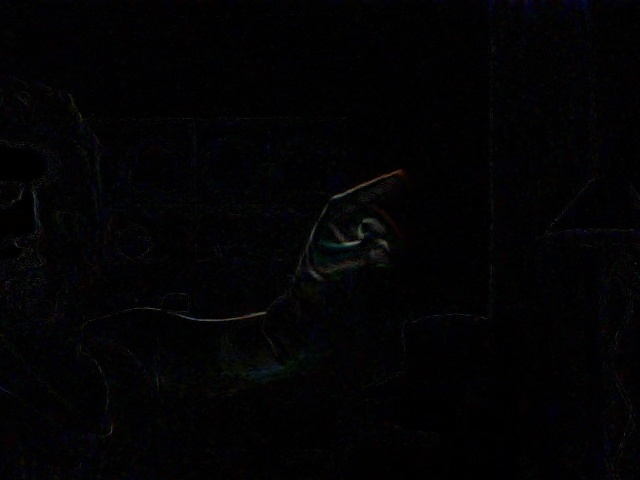hand_po: (291, 153, 423, 301)
